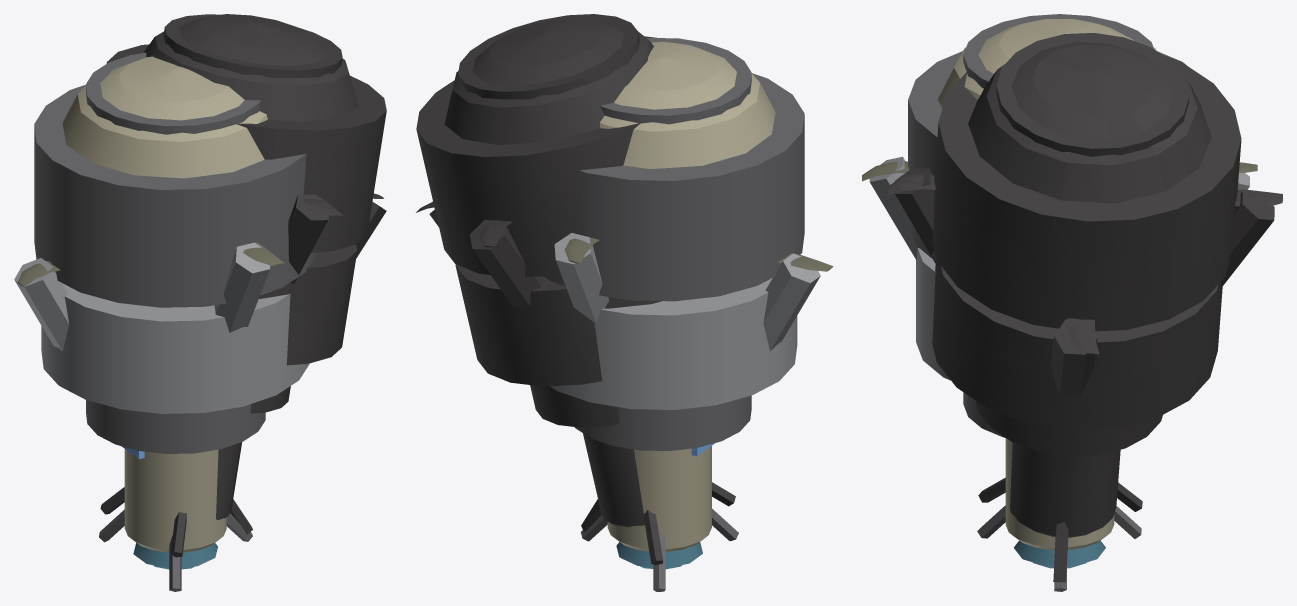
The model's file is loiterer__firefly_maoz.glb.
3 views of the same model, side by side, from view 1: azimuth 30°, elevation 25°; view 2: azimuth 150°, elevation 25°; view 3: azimuth 270°, elevation 25° (orthographic). The views are drawn at different scales.
Visible parts, largest first — view 1: Rotor_Main_2_Mesh, Rotor_Main_Mesh, Wreck, Fuselage_Mesh; view 2: Wreck, Rotor_Main_2_Mesh, Rotor_Main_Mesh, Fuselage_Mesh; view 3: Wreck, Rotor_Main_2_Mesh, Fuselage_Mesh, Rotor_Main_Mesh.
Boxes of the visible parts, bbox=[...] form: Rotor_Main_2_Mesh: bbox=[34, 52, 306, 371]; Rotor_Main_Mesh: bbox=[14, 172, 317, 453]; Wreck: bbox=[100, 14, 386, 557]; Fuselage_Mesh: bbox=[99, 446, 252, 591]; Wreck: bbox=[416, 14, 735, 565]; Rotor_Main_2_Mesh: bbox=[554, 38, 804, 366]; Rotor_Main_Mesh: bbox=[544, 157, 833, 450]; Fuselage_Mesh: bbox=[580, 443, 738, 591]; Wreck: bbox=[887, 33, 1282, 582]; Rotor_Main_2_Mesh: bbox=[862, 14, 1257, 315]; Fuselage_Mesh: bbox=[977, 438, 1141, 591]; Rotor_Main_Mesh: bbox=[908, 144, 1005, 437].
Size of what is drawn, in the model's own units: 0.4744 by 0.5987 by 0.4255.
